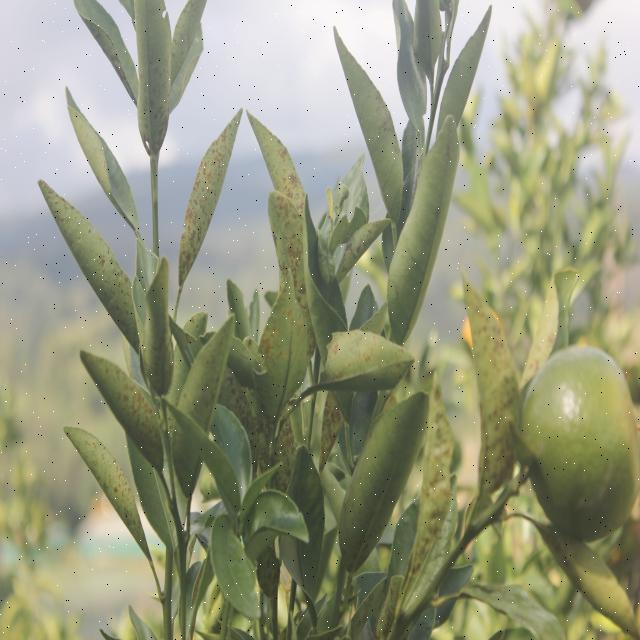melanose: (42, 166, 144, 342), (460, 276, 524, 516), (252, 110, 330, 286), (174, 106, 243, 276), (67, 418, 144, 553), (412, 367, 457, 582), (90, 346, 166, 466), (130, 6, 176, 155)
